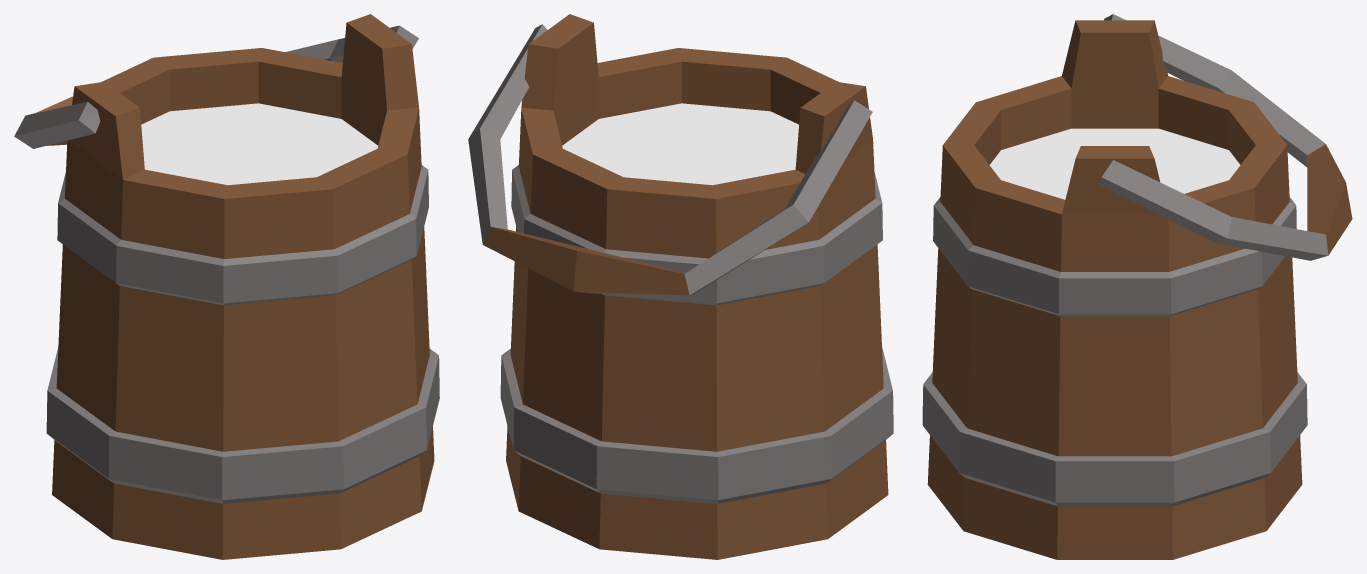
File: farm_bucket-milk.fbx
3 views of the same model, side by side, from view 1: azimuth 30°, elevation 25°; view 2: azimuth 150°, elevation 25°; view 3: azimuth 270°, elevation 25° (orthographic). The views are drawn at different scales.
Visible parts, largest first — view 1: farm_bucket_milk; view 2: farm_bucket_milk; view 3: farm_bucket_milk.
Boxes of the visible parts, <box> form: farm_bucket_milk: <box>14,14,439,559</box>; farm_bucket_milk: <box>468,14,893,559</box>; farm_bucket_milk: <box>922,14,1352,559</box>.
Bounding box in the file's own units: 172 × 200 × 196.
